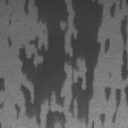red iron: (16, 0, 110, 128), (105, 86, 128, 124), (122, 16, 128, 80), (110, 0, 128, 16), (0, 78, 5, 92), (8, 13, 13, 25), (100, 114, 105, 126), (8, 35, 12, 46), (4, 0, 8, 6)
